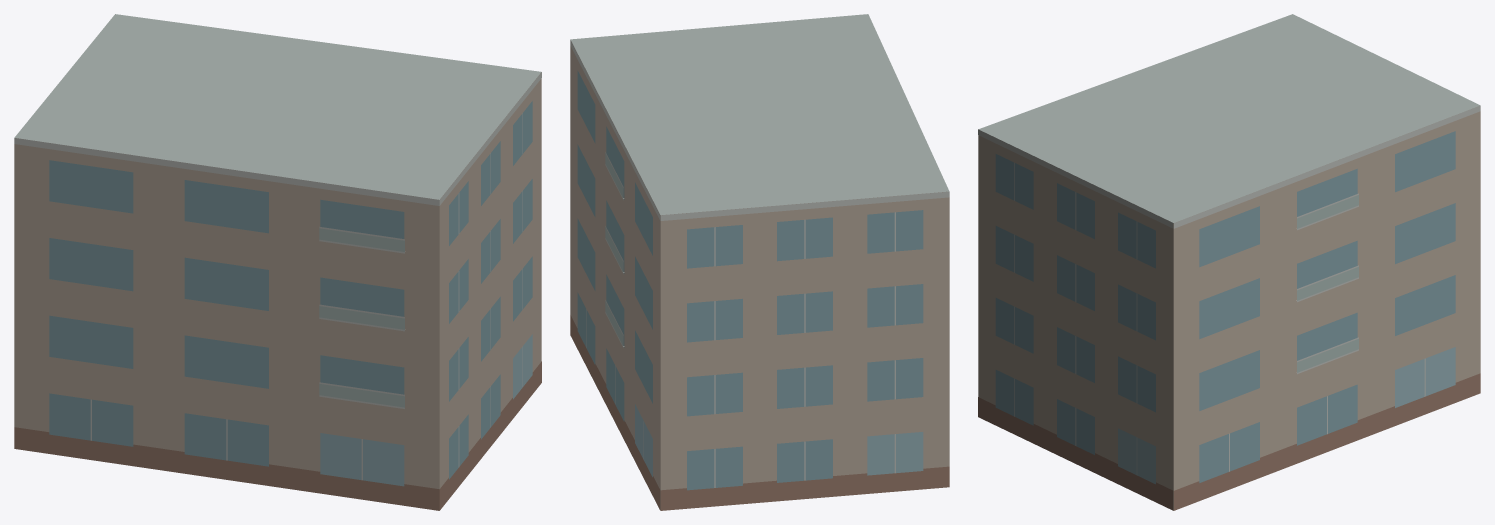
File: survey-upis-32768460.glb
3 renders of one model, left to right at view 1: azimuth 30°, elevation 25°; view 2: azimuth 150°, elevation 25°; view 3: azimuth 270°, elevation 25°, orthographic. The views are drawn at different scales.
Parts seen in each view (by area): view 1: survey-upis-32768460.tmp; view 2: survey-upis-32768460.tmp; view 3: survey-upis-32768460.tmp.
Part boxes in pixels (x1,y1,x2,y2): survey-upis-32768460.tmp: (14, 14, 541, 510); survey-upis-32768460.tmp: (570, 14, 949, 510); survey-upis-32768460.tmp: (978, 14, 1480, 510).
Size of the model in its own units: 19.02 by 12.2 by 19.31.
